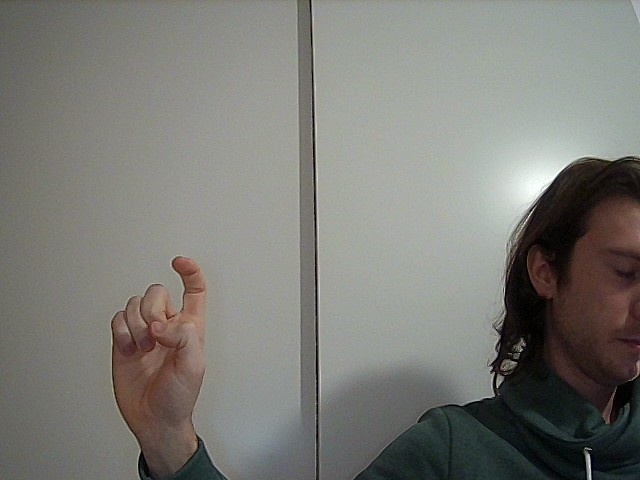x: (102, 250, 212, 422)
